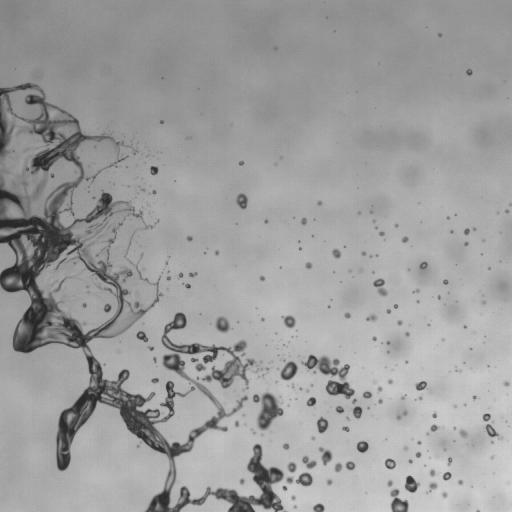droplet: (301, 354, 354, 399), (252, 391, 283, 431), (390, 488, 408, 511), (278, 361, 298, 380), (215, 316, 231, 332), (404, 475, 419, 492), (373, 278, 387, 296), (318, 447, 332, 465), (302, 456, 316, 469), (236, 193, 247, 209), (317, 417, 328, 433), (282, 315, 295, 328), (356, 441, 369, 452), (136, 331, 148, 341), (385, 458, 395, 469), (415, 381, 427, 390), (353, 406, 362, 418), (344, 461, 355, 470), (332, 248, 341, 258), (306, 397, 316, 406), (287, 462, 296, 472), (428, 482, 437, 492), (313, 503, 324, 511), (458, 429, 467, 438), (334, 462, 342, 472), (366, 314, 377, 321), (150, 166, 158, 175), (103, 303, 111, 312), (442, 472, 451, 480), (482, 413, 490, 421), (363, 391, 372, 398), (335, 406, 344, 413), (430, 424, 438, 431), (419, 262, 427, 268), (401, 236, 408, 242), (429, 469, 435, 476), (447, 457, 452, 465), (466, 69, 472, 75), (305, 262, 311, 268), (344, 312, 350, 318), (283, 443, 289, 449), (326, 479, 332, 485), (301, 217, 306, 224), (464, 228, 469, 235), (189, 272, 196, 277), (151, 378, 158, 383), (342, 426, 349, 431), (377, 386, 382, 392), (415, 452, 421, 457), (239, 478, 244, 484), (387, 480, 392, 486), (442, 492, 447, 498), (187, 236, 192, 241), (397, 320, 402, 325), (504, 381, 509, 386), (234, 421, 239, 426), (282, 485, 287, 490), (184, 284, 190, 288), (413, 289, 419, 293), (82, 302, 86, 308), (432, 412, 436, 418), (151, 190, 156, 194), (379, 231, 384, 235), (215, 250, 219, 255), (260, 276, 264, 281), (443, 279, 447, 284), (148, 346, 153, 350), (290, 383, 294, 388), (472, 395, 476, 400), (396, 415, 401, 419), (458, 480, 463, 484), (291, 495, 295, 500), (239, 161, 243, 165), (317, 201, 321, 205), (505, 209, 509, 213), (361, 251, 365, 255), (178, 273, 182, 277), (166, 276, 170, 280), (386, 309, 390, 313), (405, 332, 409, 336), (372, 336, 376, 340), (388, 379, 392, 383), (352, 399, 356, 403), (378, 399, 382, 403), (403, 411, 407, 415), (251, 429, 255, 433), (311, 436, 315, 440), (408, 459, 412, 463), (394, 304, 397, 308), (153, 357, 156, 361), (456, 368, 460, 371), (401, 396, 405, 399), (404, 446, 407, 450), (438, 33, 441, 36), (141, 188, 144, 191), (264, 220, 267, 223), (464, 242, 467, 245), (261, 318, 264, 321), (419, 396, 422, 399), (346, 417, 349, 420), (417, 441, 420, 444), (395, 224, 397, 227), (437, 296, 440, 298), (387, 341, 389, 344), (294, 505, 296, 508), (161, 121, 163, 123), (447, 217, 449, 219), (156, 220, 158, 222), (373, 220, 375, 222), (473, 228, 475, 230), (134, 230, 136, 232), (62, 295, 64, 297), (482, 301, 484, 303), (464, 326, 466, 328), (306, 389, 308, 391), (137, 444, 139, 446), (491, 456, 493, 458)
ligament: (0, 84, 313, 511), (484, 424, 503, 439), (124, 252, 137, 268), (137, 270, 150, 283), (108, 157, 124, 167), (55, 258, 67, 270), (128, 145, 137, 154), (143, 224, 154, 229), (510, 203, 511, 206), (476, 510, 479, 511)
